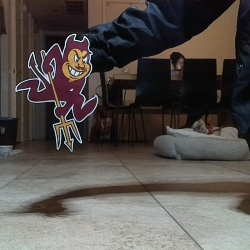sparky: (14, 33, 99, 153)
